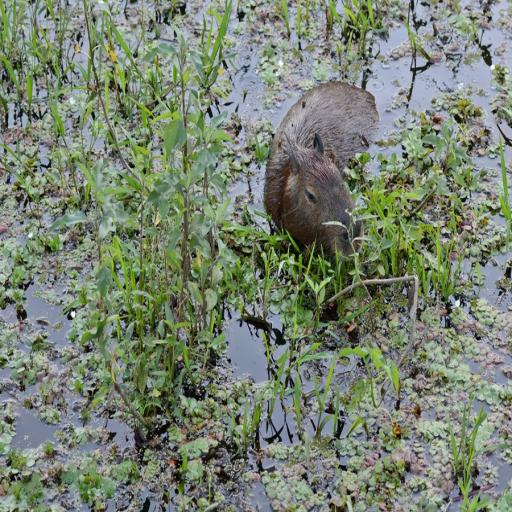capybara: (201, 26, 469, 316)
